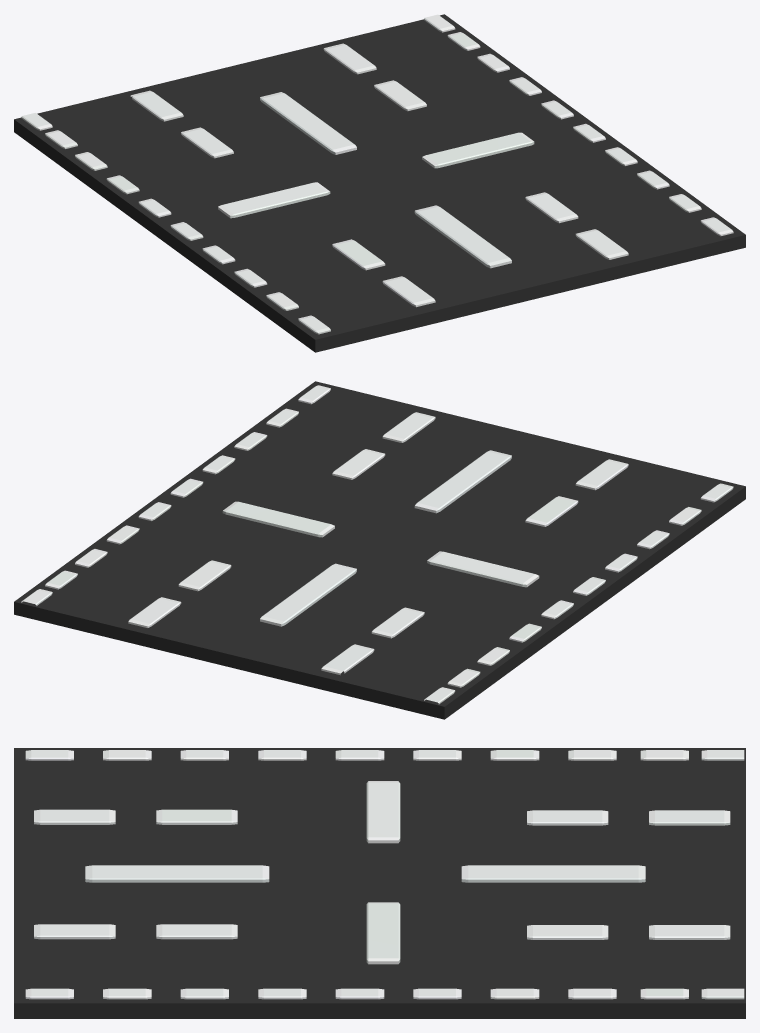
Rendered from STA_Project_Road_4_V1.fbx.
3 renders of one model, top to bottom at view 1: azimuth 30°, elevation 25°; view 2: azimuth 150°, elevation 25°; view 3: azimuth 270°, elevation 25°, orthographic. The views are drawn at different scales.
Visible parts, largest first — view 1: Roads_V4; view 2: Roads_V4; view 3: Roads_V4.
Boxes of the visible parts, x1,y1,x2,y2 form: Roads_V4: (14, 14, 745, 352); Roads_V4: (14, 381, 745, 719); Roads_V4: (14, 748, 745, 1018).
Size of the model in its own units: 986 by 35.1 by 1195.
